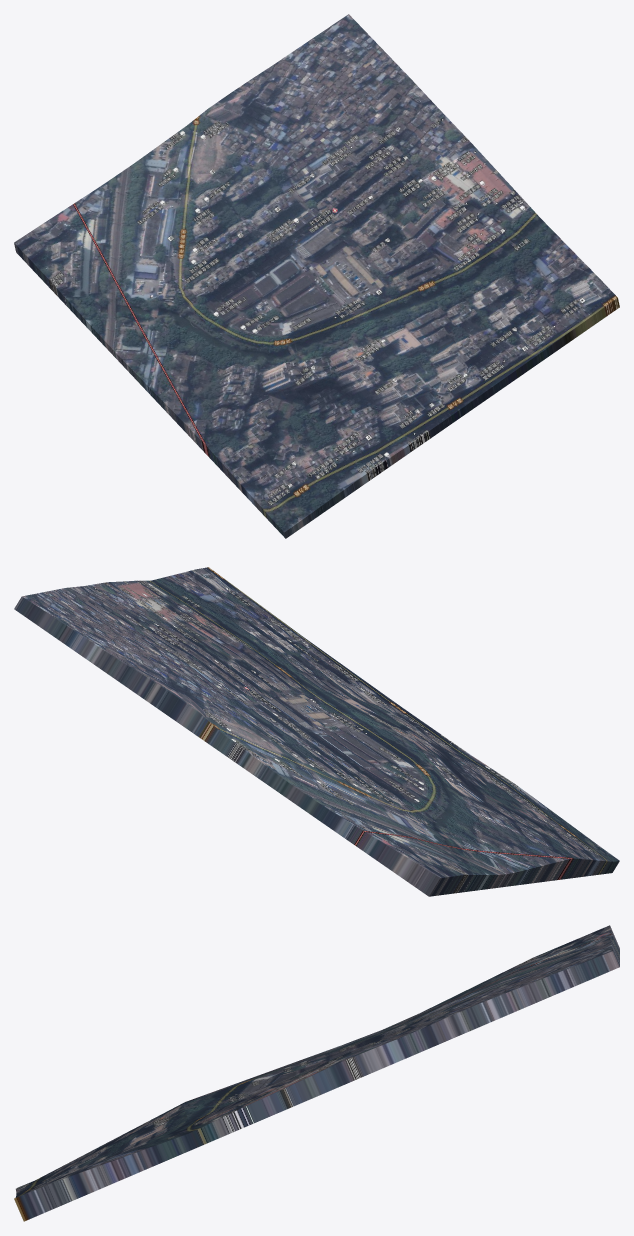
3 views of the same model, one above another, from view 1: azimuth 30°, elevation 25°; view 2: azimuth 150°, elevation 25°; view 3: azimuth 270°, elevation 25° (orthographic). The views are drawn at different scales.
Visible parts, largest first — view 1: 0_8_5; view 2: 0_8_5; view 3: 0_8_5.
Boxes of the visible parts, x1,y1,x2,y2 form: 0_8_5: (14,14,619,538); 0_8_5: (14,567,619,896); 0_8_5: (14,925,619,1221).
Size of the model in its own units: 601 by 441 by 551.
Materials: 1 (1 with a texture image).
